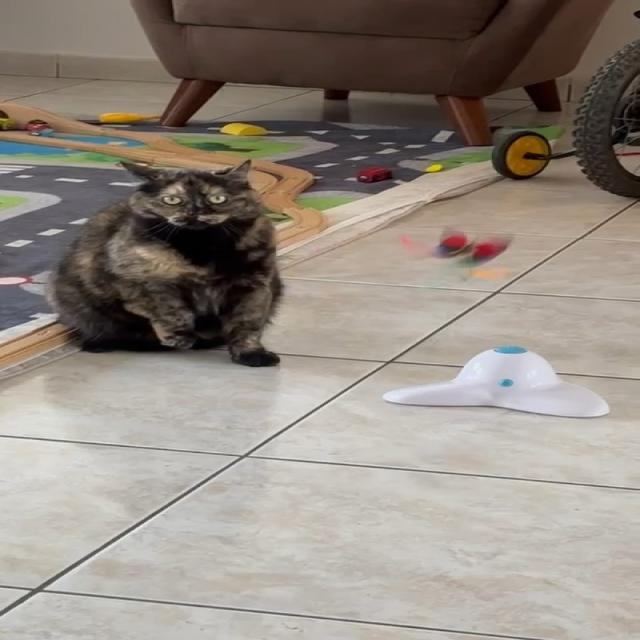authorized: (44, 158, 285, 367)
